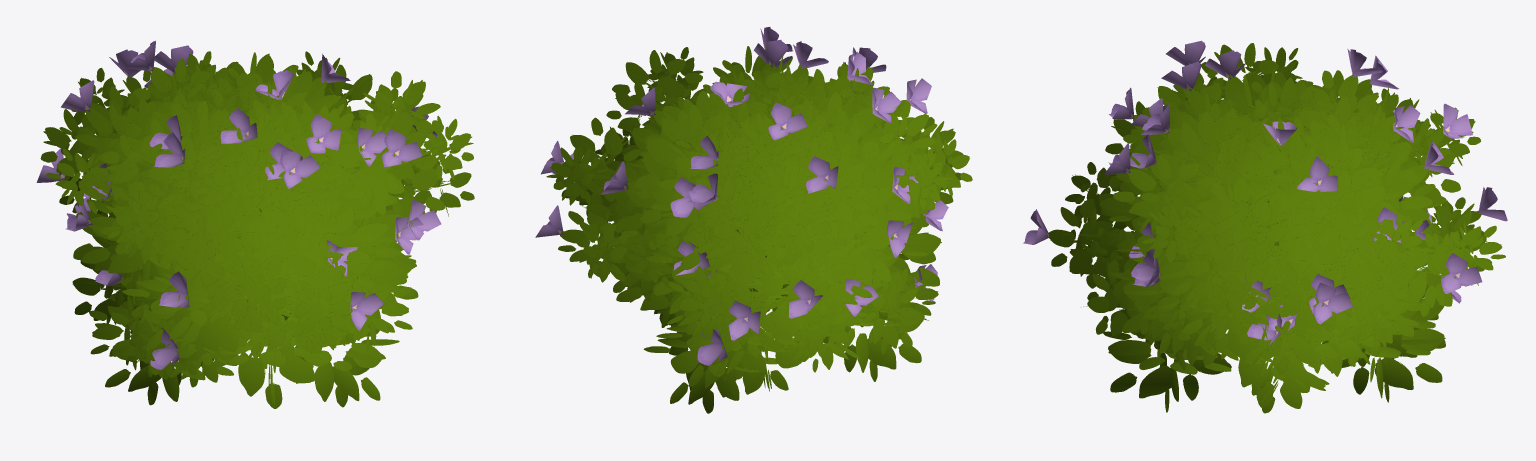
Rendered from Bush_Common_Flowers_s.gltf.
The picture shows the model from 3 angles, left to right: view 1: azimuth 30°, elevation 25°; view 2: azimuth 150°, elevation 25°; view 3: azimuth 270°, elevation 25°; orthographic projection. The views are drawn at different scales.
Visible parts, largest first — view 1: Bush_Common_Flowers; view 2: Bush_Common_Flowers; view 3: Bush_Common_Flowers.
Part boxes in pixels (left/top/right/bottom): Bush_Common_Flowers: left=36, top=40, right=474, bottom=408; Bush_Common_Flowers: left=535, top=27, right=972, bottom=413; Bush_Common_Flowers: left=1023, top=40, right=1507, bottom=413.
Size of the model in its own units: 1.91 by 1.58 by 1.97.
Materials: 2 (2 with a texture image).
